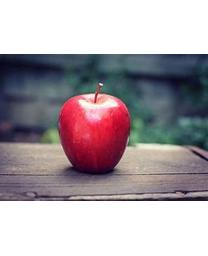apple: (56, 83, 130, 173)
